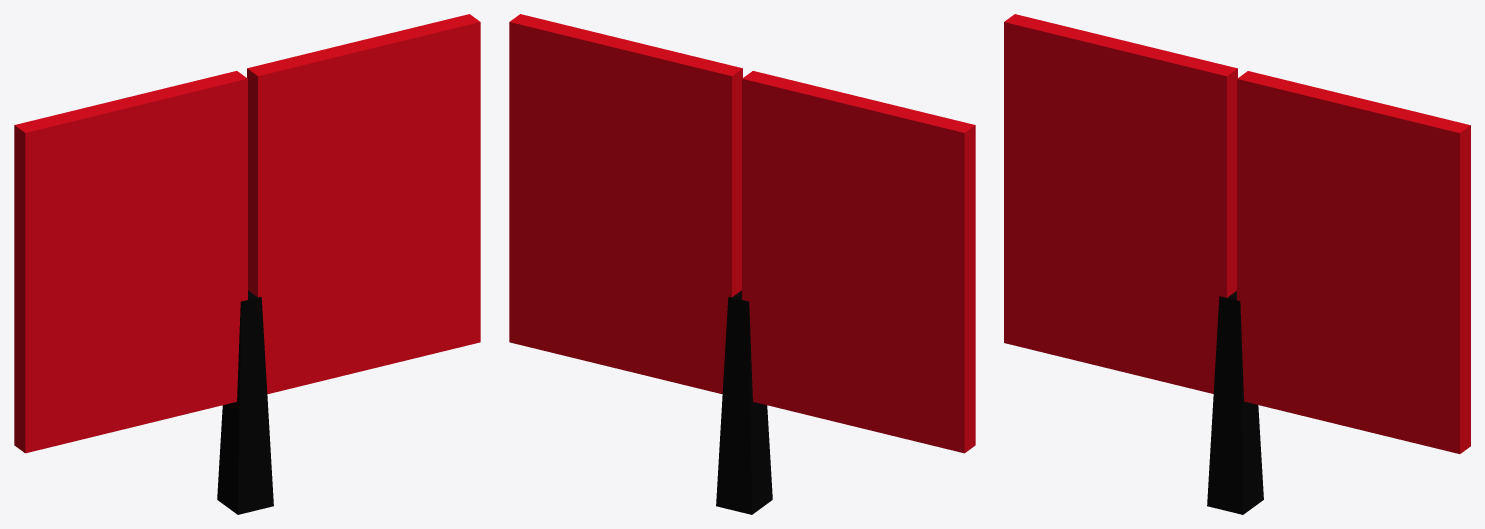
The model's file is Врота.fbx.
3 renders of one model, left to right at view 1: azimuth 30°, elevation 25°; view 2: azimuth 150°, elevation 25°; view 3: azimuth 330°, elevation 25°, orthographic.
Parts seen in each view (by area): view 1: Cube.002, Cube.001, Cube; view 2: Cube.002, Cube.001, Cube; view 3: Cube.001, Cube.002, Cube.
Part boxes in pixels (<box>): Cube.002: <box>14,71,247,453</box>; Cube.001: <box>247,14,480,394</box>; Cube: <box>217,290,273,514</box>; Cube.002: <box>742,71,975,453</box>; Cube.001: <box>509,14,742,394</box>; Cube: <box>716,290,772,514</box>; Cube.001: <box>1237,71,1470,453</box>; Cube.002: <box>1004,14,1237,393</box>; Cube: <box>1207,291,1263,514</box>.
Bounding box in the file's own units: 458 × 413 × 36.26.
